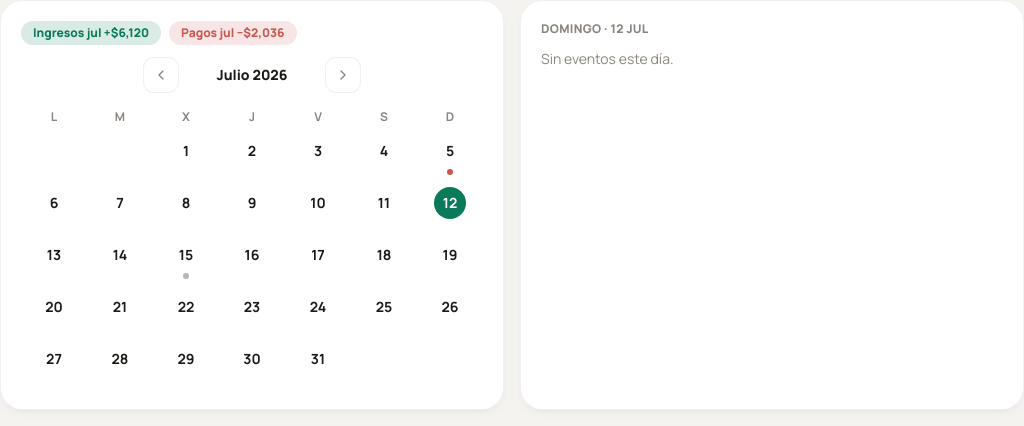
Test: CalendarView › dots con prioridad y el click cambia la agenda
What coordinates should you click on to do the following:
click the button named "Día 5"
I would click on:
 (450, 155)
Its box is top-left (417, 129), bottom-right (483, 181).
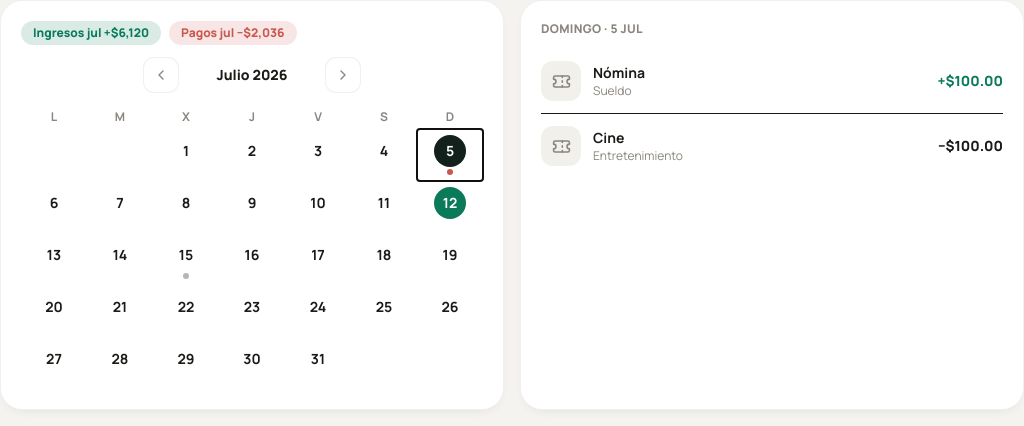
Now the text "DOMINGO · 5 JUL" is shown, box top-left (541, 20), bottom-right (643, 37)
Now the text "Nómina" is shown, box top-left (593, 63), bottom-right (645, 82)
What coordinates should you click on to do the following:
click the button named "Día 15"
I would click on:
 (186, 259)
Its box is top-left (153, 233), bottom-right (219, 285).
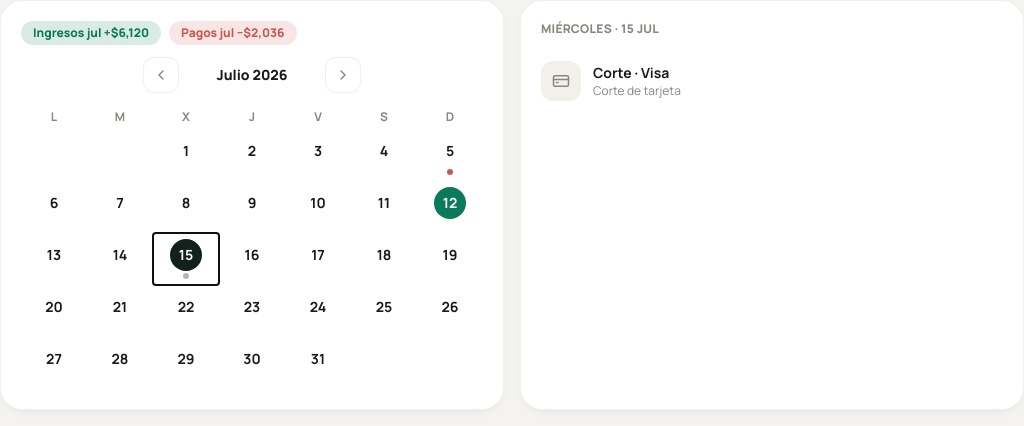
Now the text "Corte · Visa" is shown, box top-left (593, 63), bottom-right (669, 82)
Now the text "Corte de tarjeta" is shown, box top-left (593, 82), bottom-right (681, 99)
